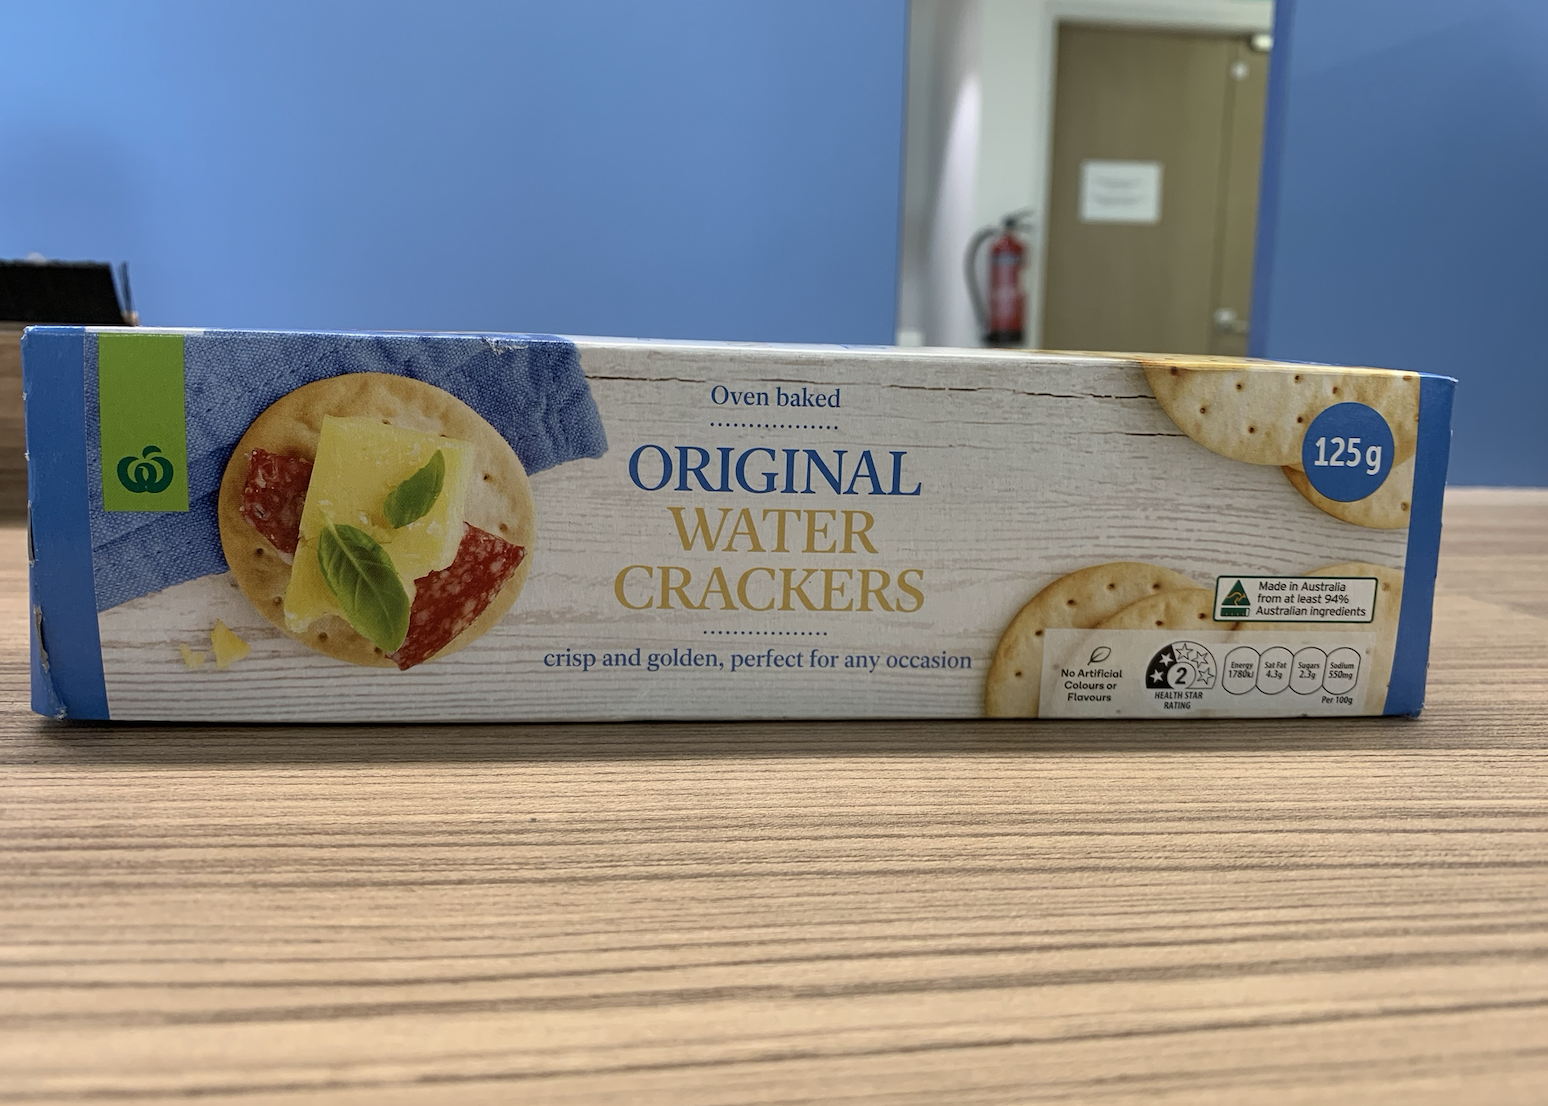crackers_100g-199g: (72, 352, 1400, 722)
